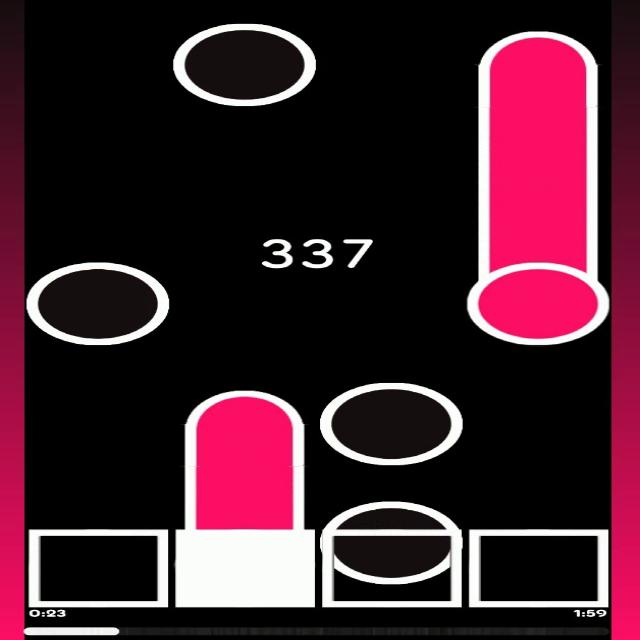end_hold: (473, 22, 607, 72), (183, 383, 303, 432)
note: (170, 22, 316, 108), (25, 262, 169, 346), (320, 382, 463, 464), (322, 502, 463, 583)
